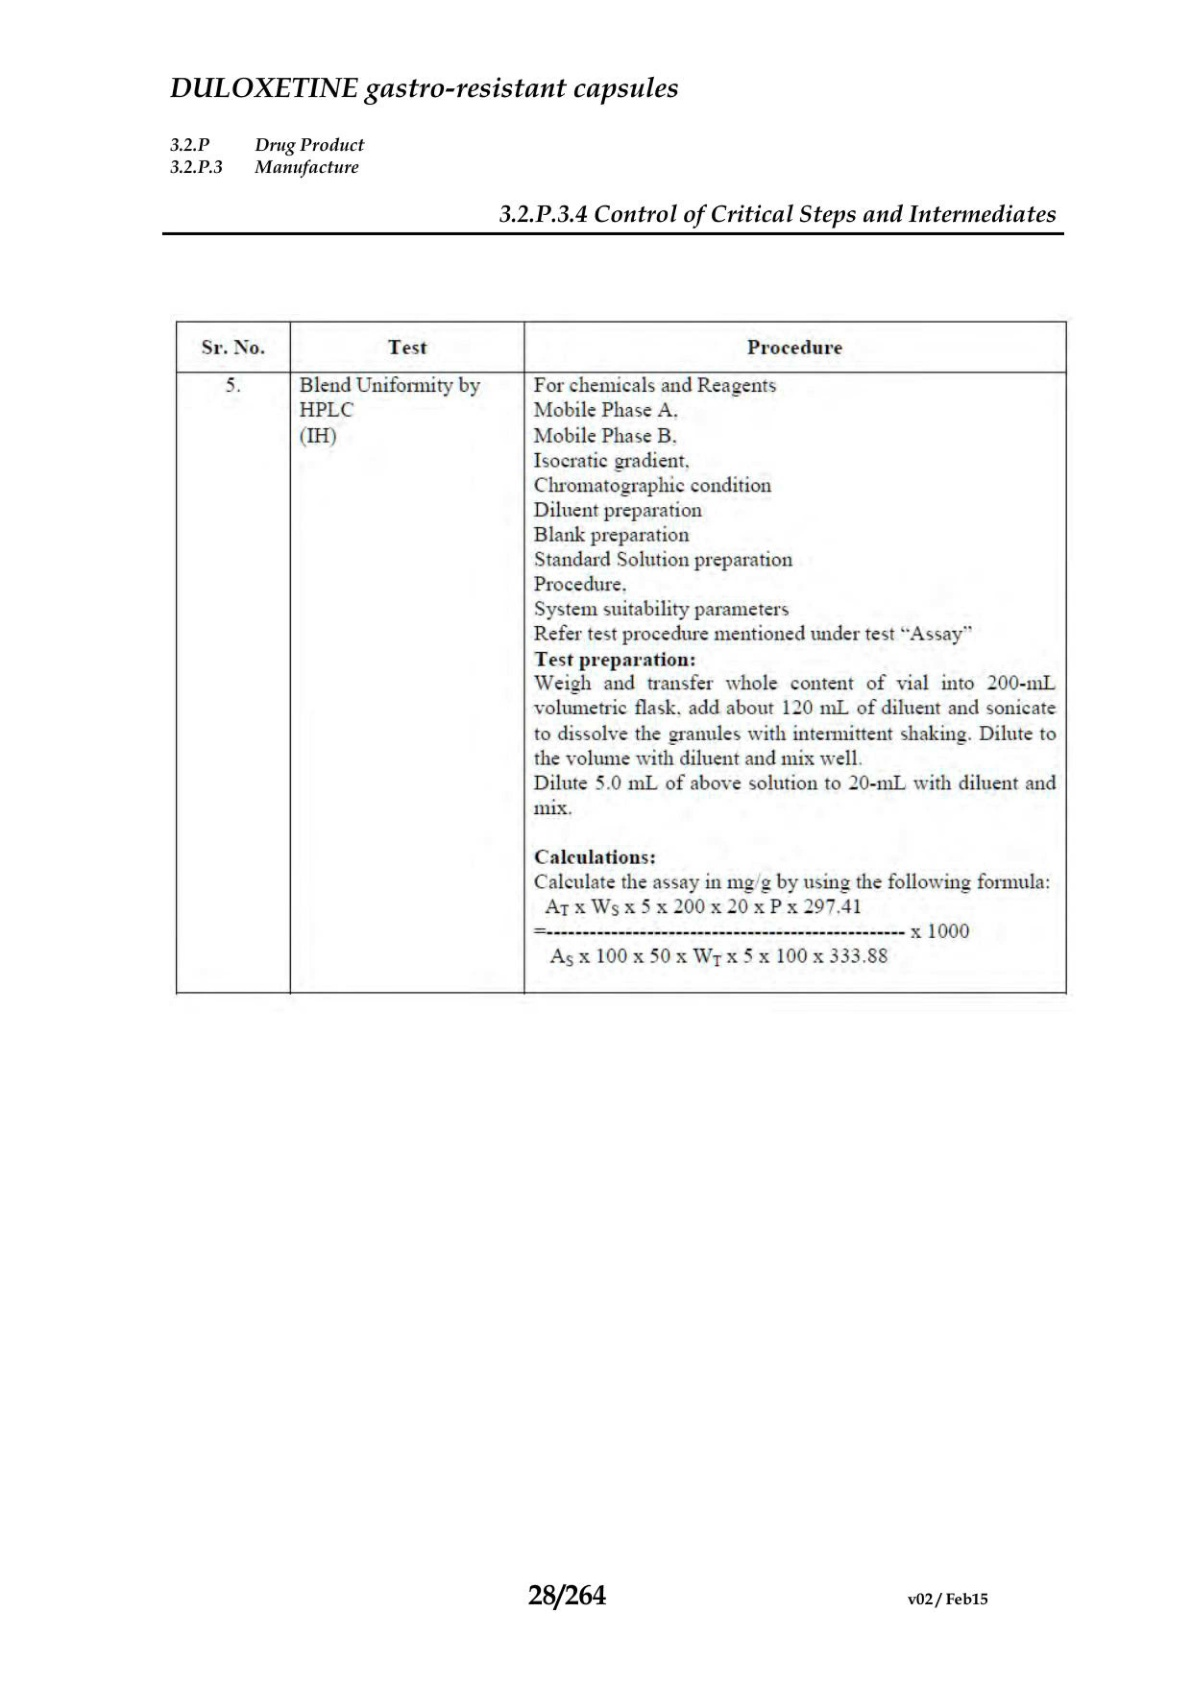full_lined: (175, 319, 1068, 995)
